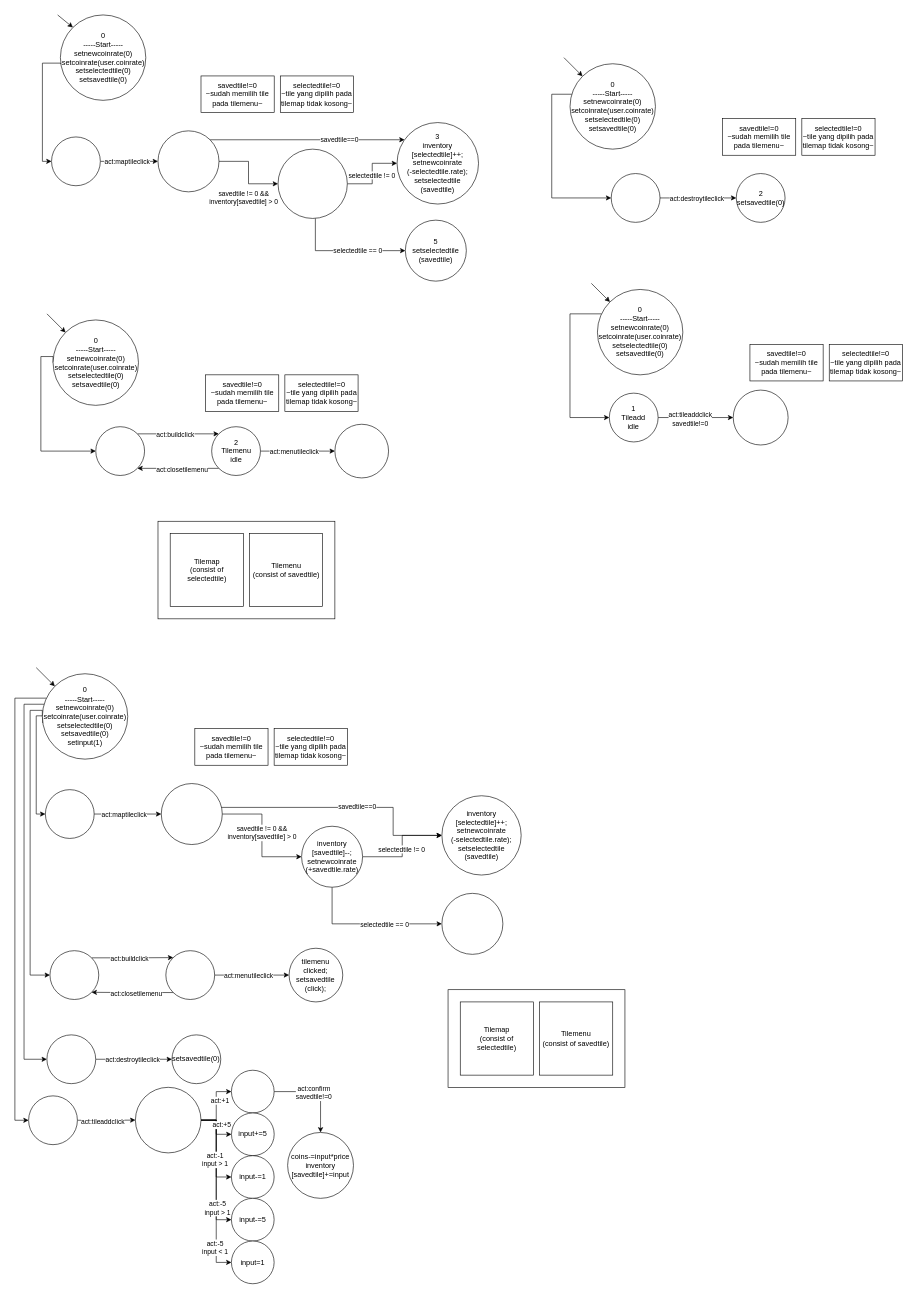
Some shapes in this 913 by 1294 pixel diagram are drawn without their labels. The shapes that lost their labels are listed below. From the top down, each one's centre as x and y in pixels, then its label:
(75,161): 1 tilemap idle
(188,161): 2 tilemap clicked; setselectedtile (click);
(312,183): 4 inventory [savedtile]--; setnewcoinrate (+savedtile.rate)
(635,197): 1 tiledestroy idle
(760,417): 2 coins-- inventory [savedtile]++
(120,450): 1 Tilemenu hidden
(361,451): 3 tilemenu clicked; setsavedtile (click);
(69,813): tilemap idle
(191,814): tilemap clicked; setselectedtile (click);
(472,923): setselectedtile (savedtile)
(74,974): Tilemenu hidden
(190,974): Tilemenu idle
(71,1059): tiledestroy idle
(252,1091): input+=1
(52,1120): Tileadd idle
(168,1120): Tileadd clicked; show(confirmation)
